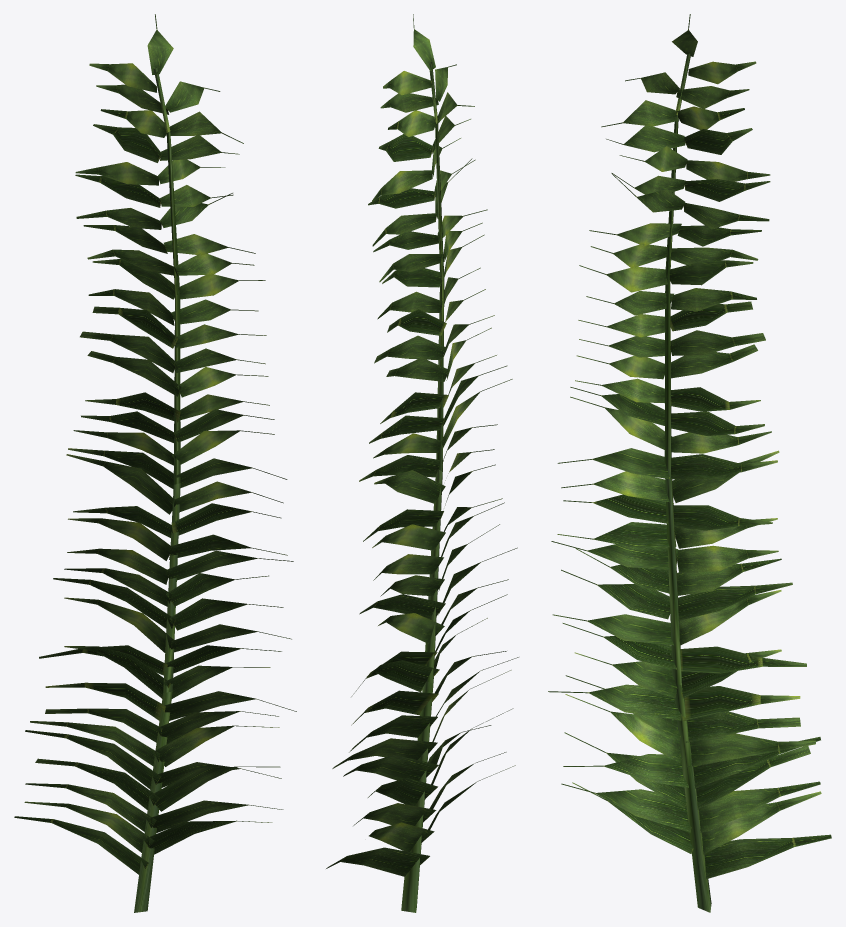
File: plant_50.fbx
3 renders of one model, left to right at view 1: azimuth 90°, elevation 25°; view 2: azimuth 150°, elevation 25°; view 3: azimuth 270°, elevation 25°, orthographic.
Visible parts, largest first — view 1: polySurface71; view 2: polySurface71; view 3: polySurface71.
Boxes of the visible parts, x1,y1,x2,y2 form: polySurface71: (14, 14, 296, 912); polySurface71: (326, 14, 518, 912); polySurface71: (548, 14, 831, 912).
Size of the model in its own units: 1.23 by 15.82 by 4.53.
